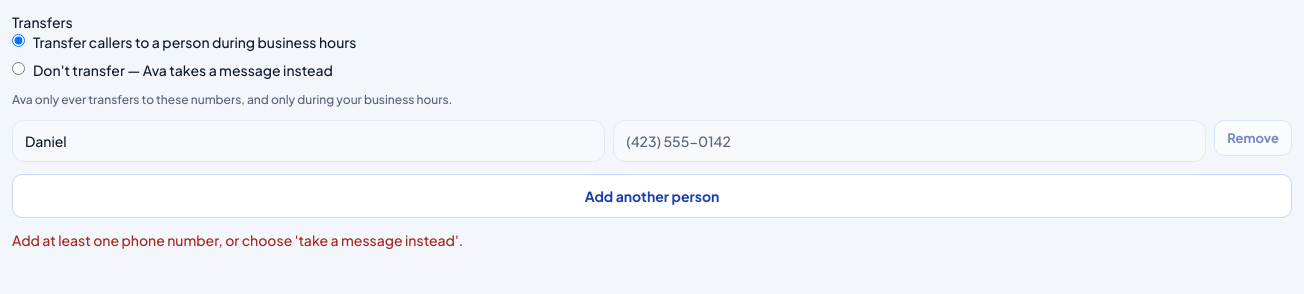
it: TransferTargetsEditor › normalizes 423-555-0142 on blur and shows per-row errors
This screenshot has width=1304, height=294.
Type "423-555-0142" into the field named "Phone number" at (910, 141), box [613,120,1206,162]
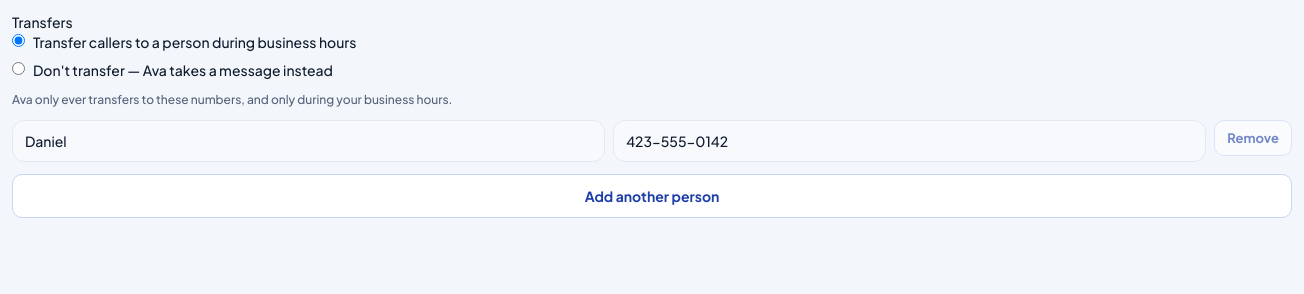
Leave the field named "Phone number", box [613,120,1206,162]
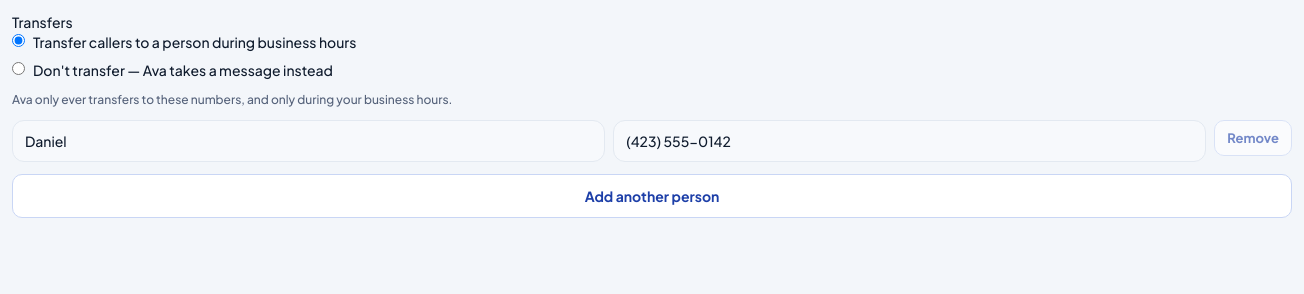
expect the field named "Phone number" holds "(423) 555-0142": met, box [613,120,1206,162]
Clear the field named "Name or role" at (309, 141), box [12,120,605,162]
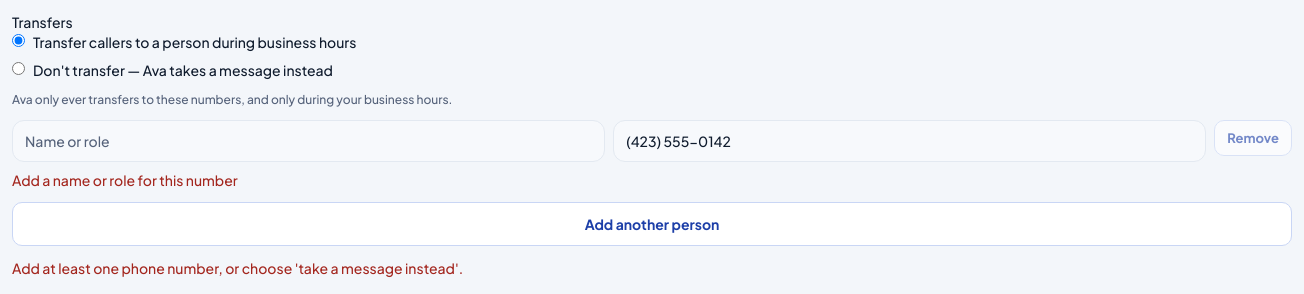
expect the text "Add a name or role for this number" is shown: met, box [12,171,238,189]
